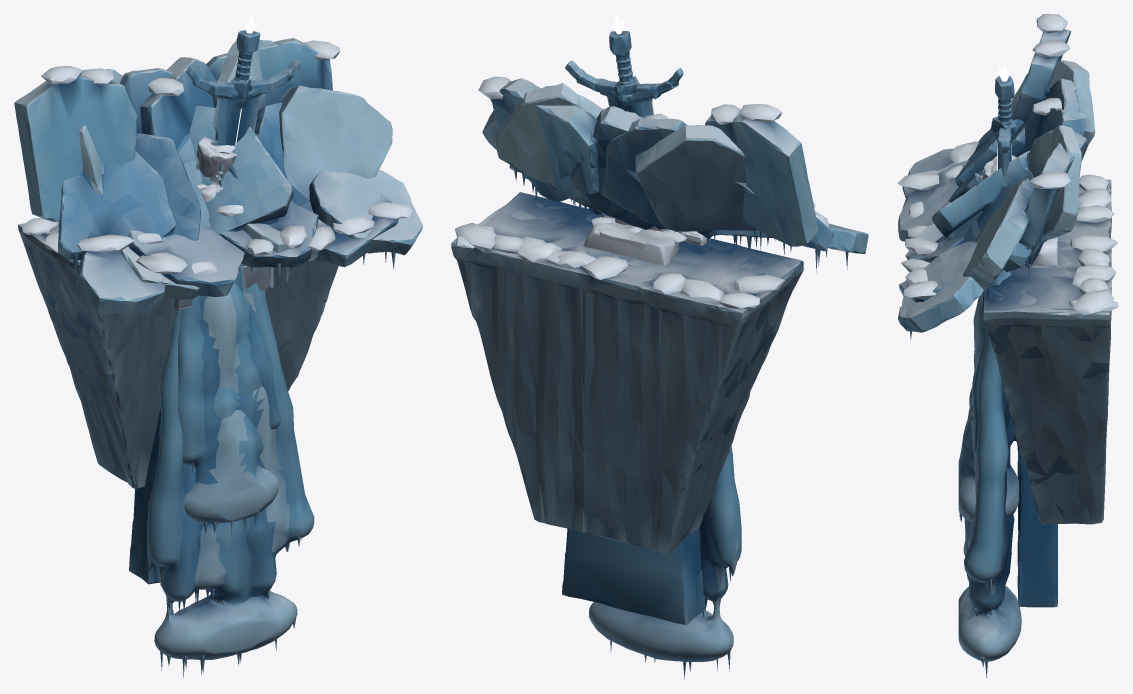
File: smith_heart_quench_kit_components.glb
3 views of the same model, side by side, from view 1: azimuth 30°, elevation 25°; view 2: azimuth 150°, elevation 25°; view 3: azimuth 270°, elevation 25° (orthographic). The views are drawn at different scales.
Visible parts, largest first — view 1: Kit_IceShelfA, Kit_IceShelfB, Kit_FrozenFallA, Kit_FrozenFallB, Kit_SunkBlade, Kit_FrostStone; view 2: Kit_IceShelfB, Kit_IceShelfA, Kit_FrozenFallA, Kit_SunkBlade, Kit_FrozenFallB; view 3: Kit_IceShelfB, Kit_IceShelfA, Kit_FrozenFallA, Kit_FrozenFallB, Kit_SunkBlade.
Boxes of the visible parts, x1,y1,x2,y2 form: Kit_IceShelfA: (18, 38, 412, 488); Kit_IceShelfB: (14, 40, 422, 488); Kit_FrozenFallA: (129, 265, 314, 677); Kit_FrozenFallB: (177, 282, 280, 538); Kit_SunkBlade: (186, 14, 300, 145); Kit_FrostStone: (196, 136, 237, 201); Kit_IceShelfB: (451, 83, 818, 548); Kit_IceShelfA: (454, 76, 868, 553); Kit_FrozenFallA: (562, 217, 741, 679); Kit_SunkBlade: (565, 14, 683, 117); Kit_FrozenFallB: (599, 217, 648, 254); Kit_IceShelfB: (898, 14, 1118, 524); Kit_IceShelfA: (897, 60, 1117, 524); Kit_FrozenFallA: (958, 242, 1057, 677); Kit_FrozenFallB: (958, 237, 1057, 532); Kit_SunkBlade: (990, 64, 1016, 179).
Bounding box in the file's own units: 20.95 × 38.27 × 12.46.
